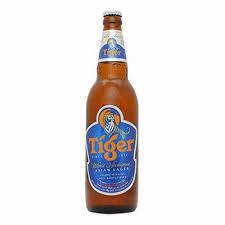beer: (86, 10, 136, 213)
